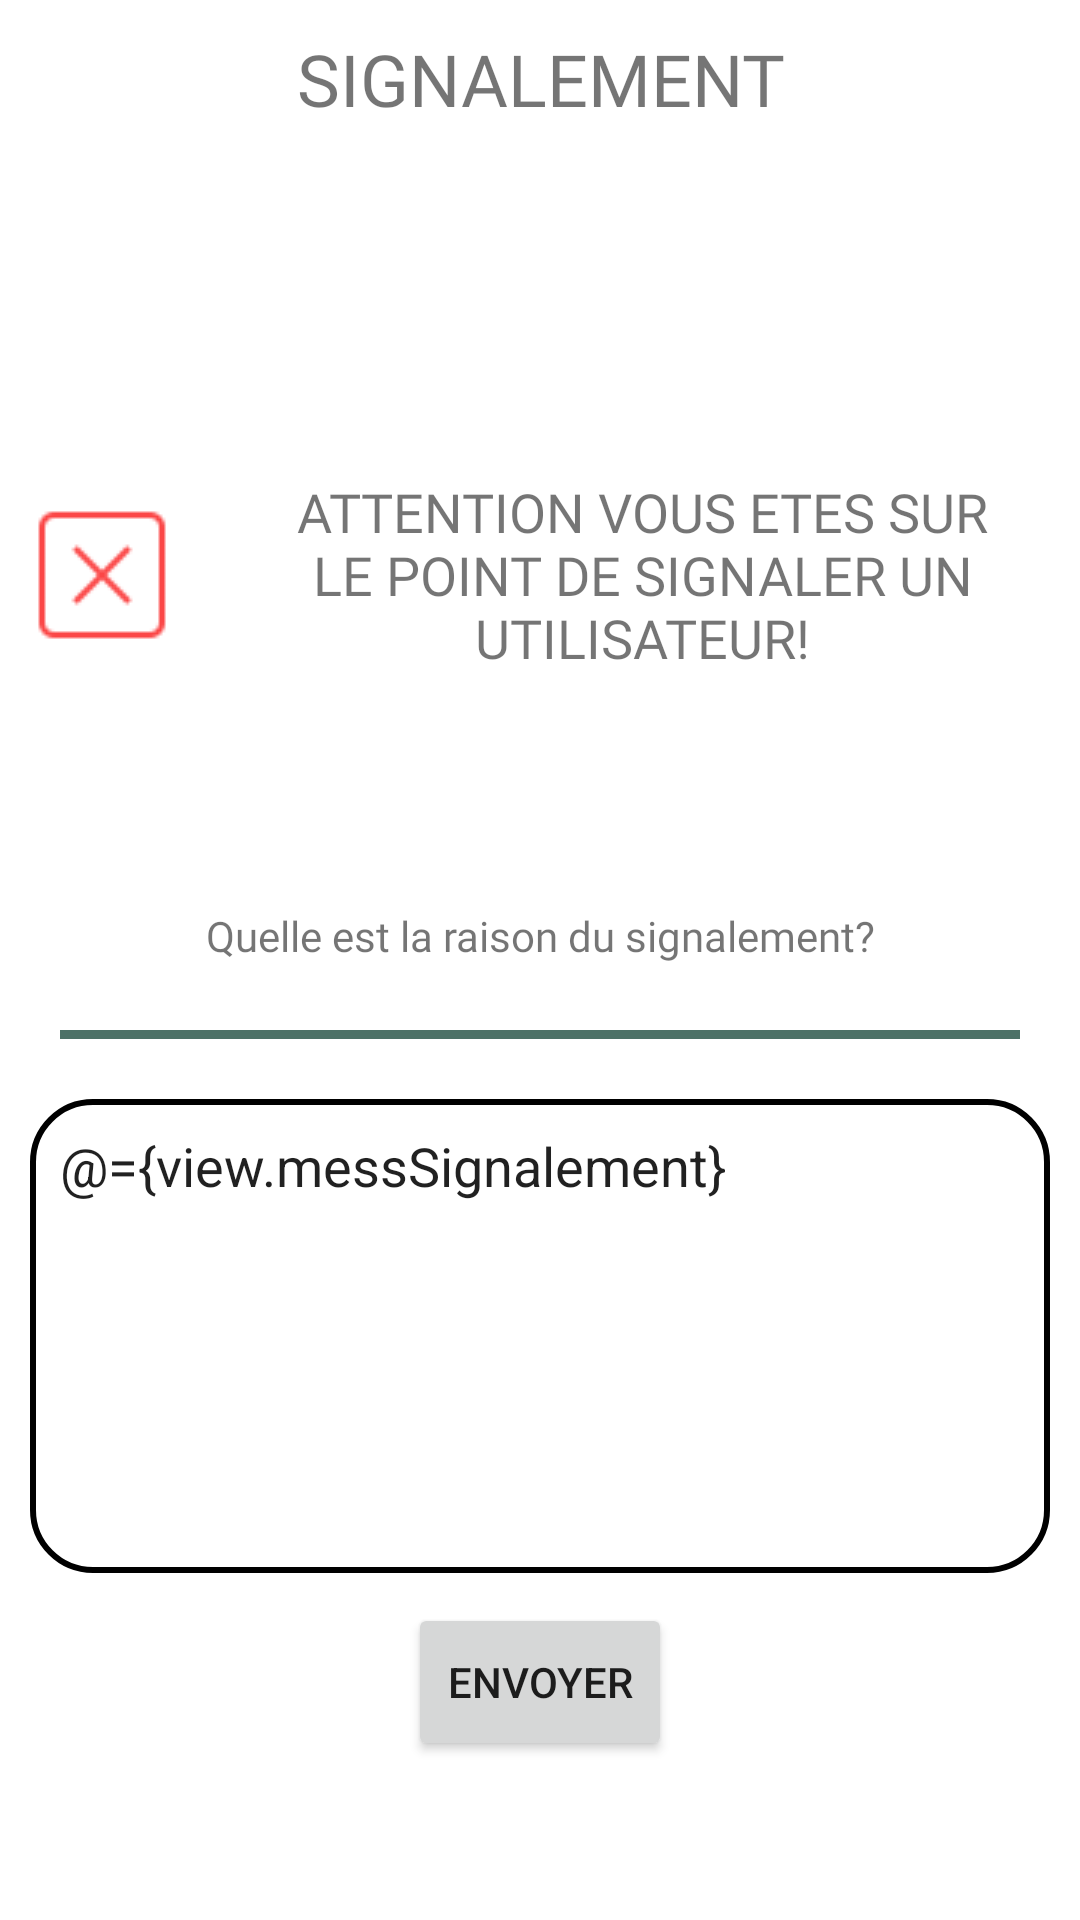

Where icons sit on this 1080 x 1920 app screen, as (x1,y1,x2,y2):
close: (38,511,166,639)
